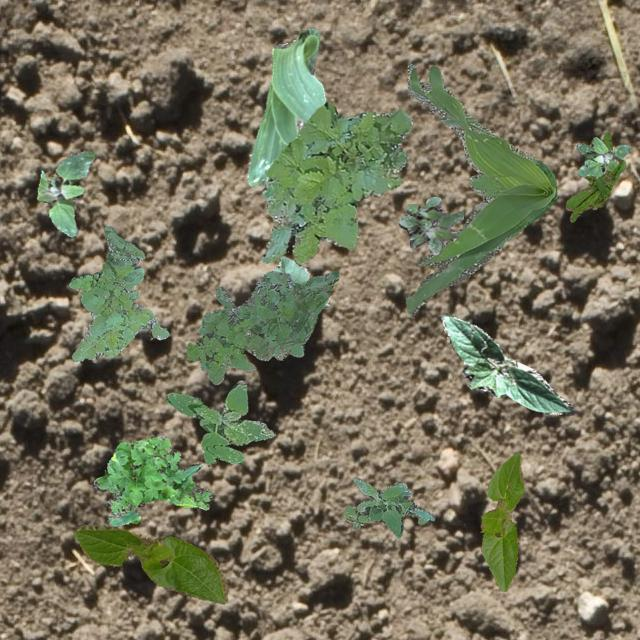crop: (441, 312, 574, 414), (72, 522, 226, 602), (246, 28, 324, 184), (480, 452, 522, 590), (272, 254, 328, 306)
weed: (404, 62, 556, 316), (259, 100, 412, 264), (185, 270, 338, 384), (68, 226, 168, 362), (92, 434, 212, 524), (164, 380, 274, 462), (342, 476, 433, 536), (564, 132, 624, 220), (36, 148, 94, 235), (398, 196, 462, 253), (576, 136, 630, 176)
